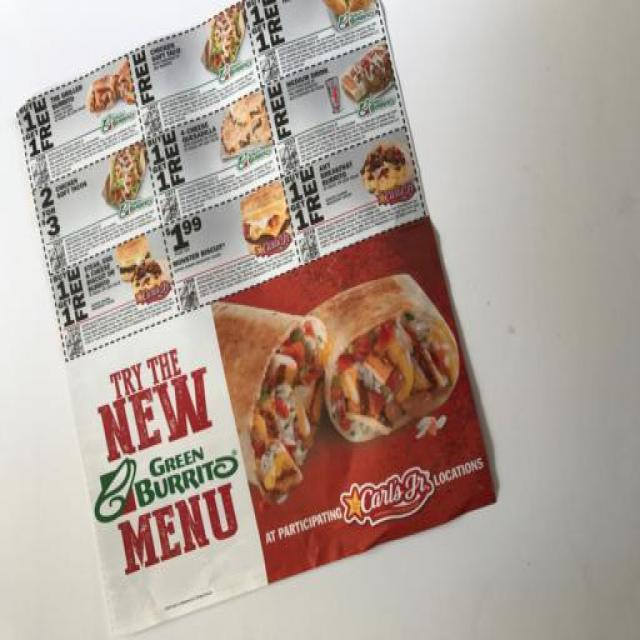paper: (23, 1, 495, 640)
